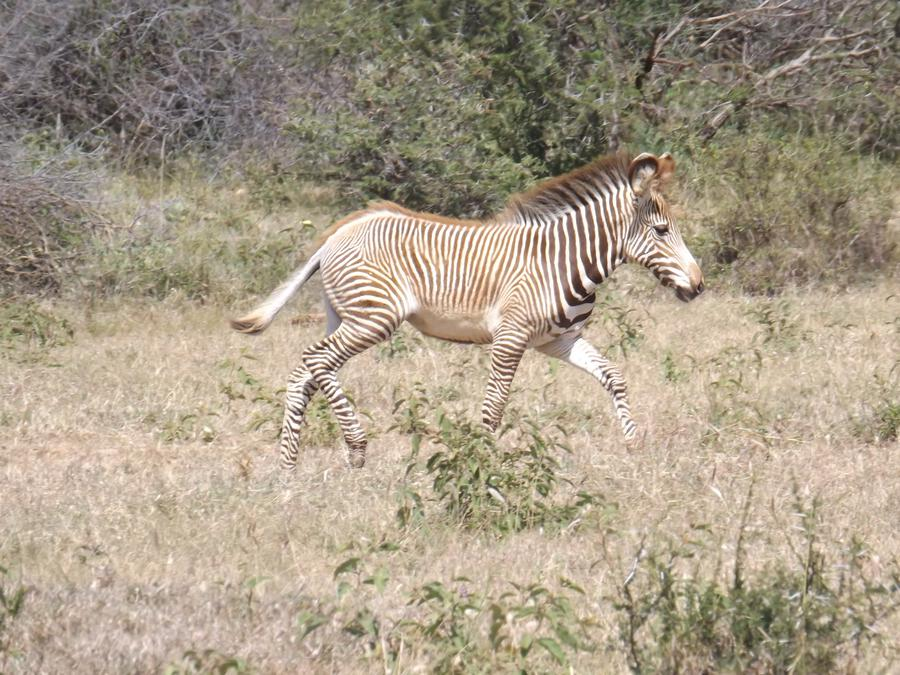zebra_grevys: (322, 194, 566, 329)
